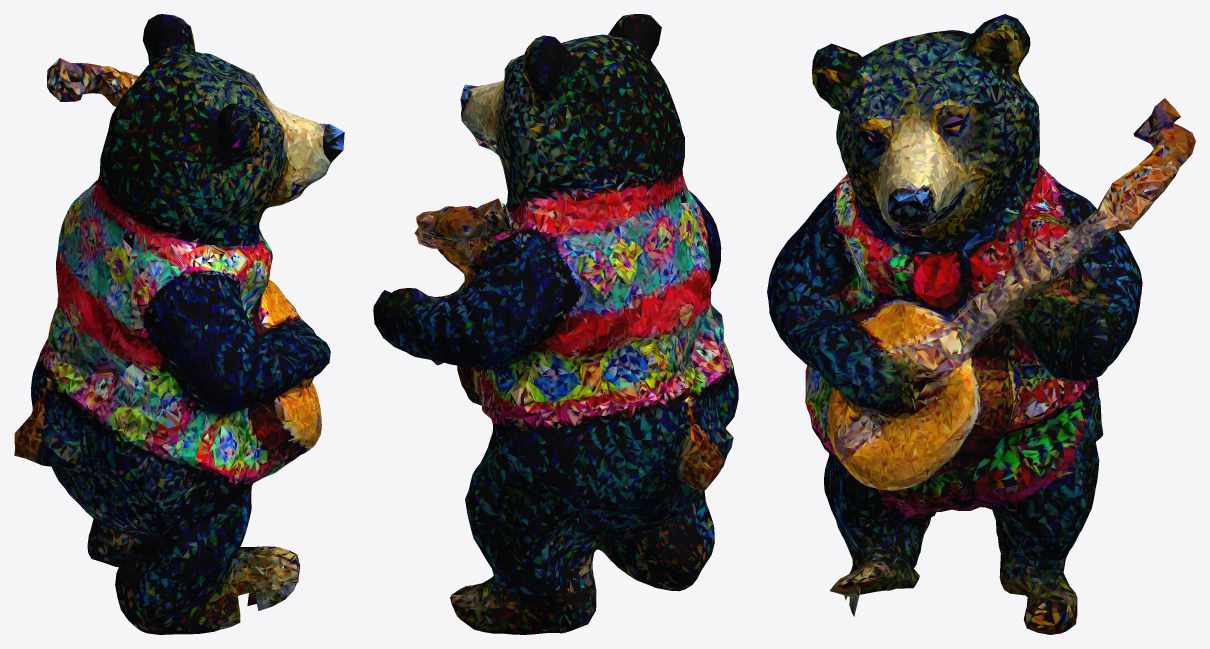
Rendered from bear_guitar-normal.glb.
3 views of the same model, side by side, from view 1: azimuth 30°, elevation 25°; view 2: azimuth 150°, elevation 25°; view 3: azimuth 270°, elevation 25° (orthographic). The views are drawn at different scales.
Visible parts, largest first — view 1: extracted_mesh; view 2: extracted_mesh; view 3: extracted_mesh.
Boxes of the visible parts, x1=… form: extracted_mesh: x1=14, y1=14, x2=344, y2=634; extracted_mesh: x1=373, y1=14, x2=738, y2=634; extracted_mesh: x1=767, y1=14, x2=1195, y2=634.
Size of the model in its own units: 0.5871 by 1.11 by 0.7237.
Materials: 1 (1 with a texture image).
